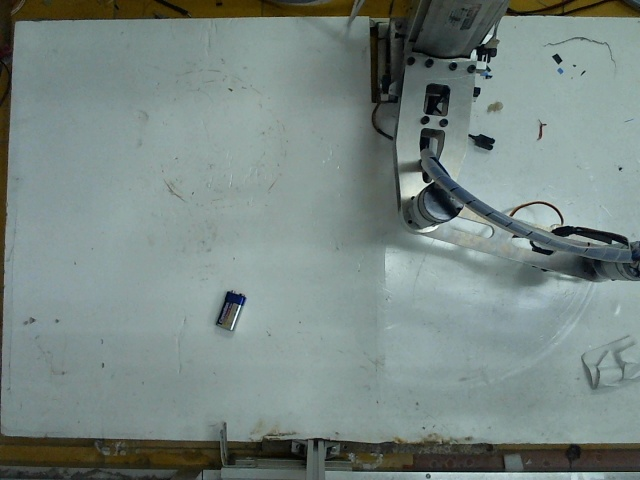battery: (213, 285, 248, 331)
